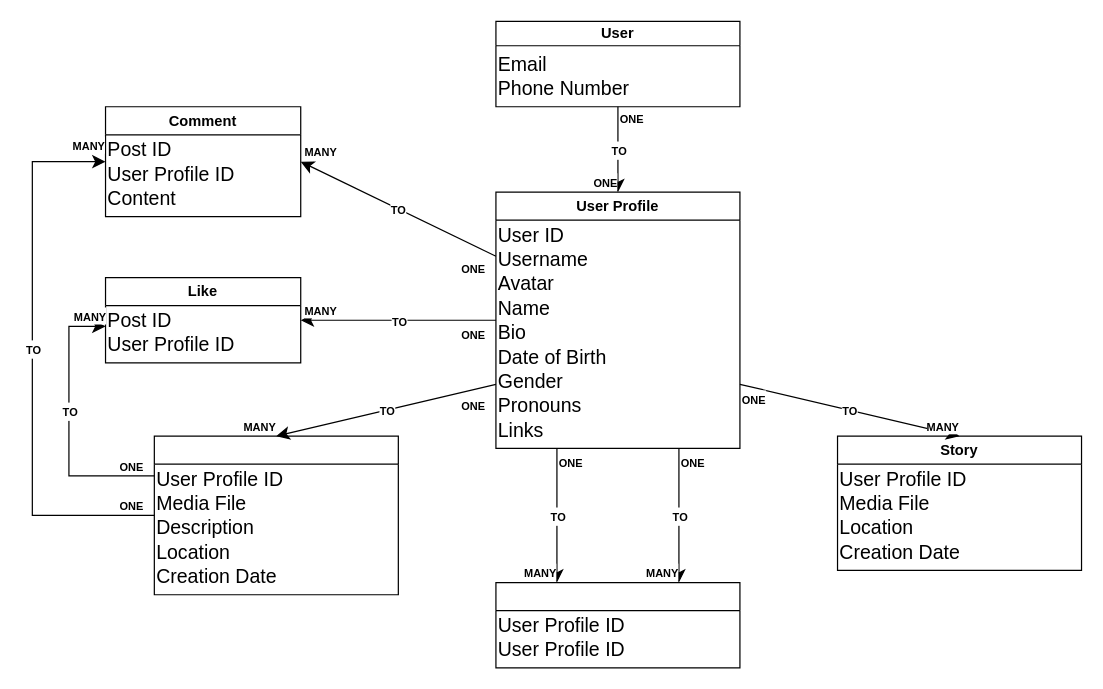
This 1103x689 diagram has some shape labels left out. Each missing label, with the box of its shape:
Post: (153, 435, 398, 595)
Subscribition: (495, 581, 740, 668)
